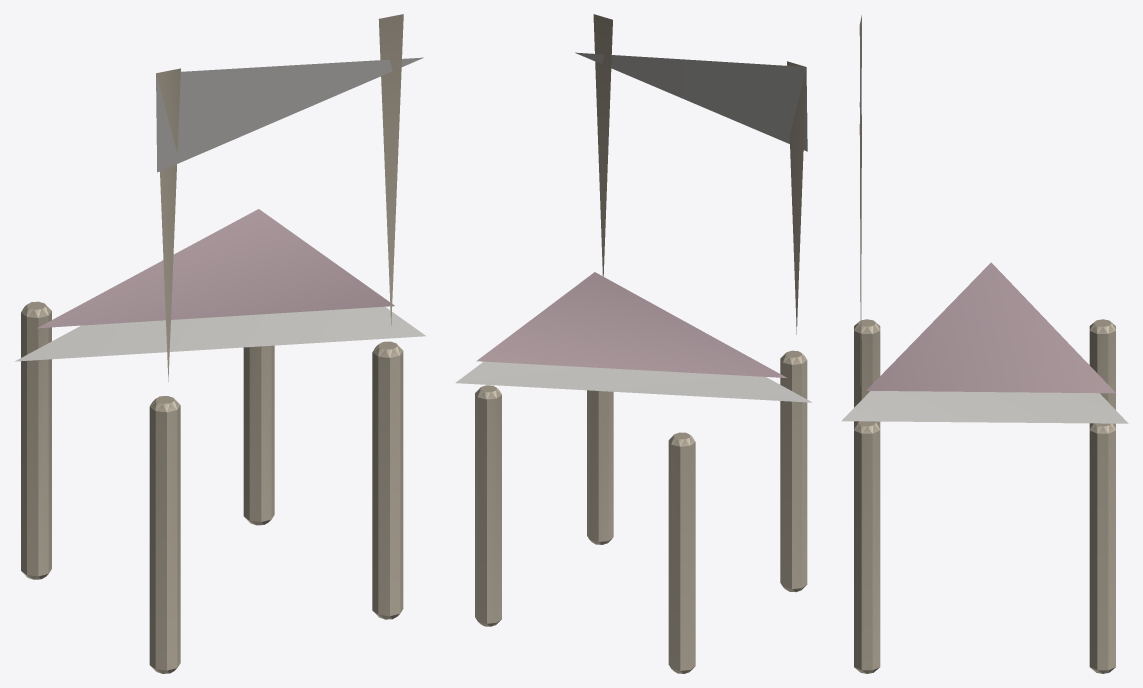
Rendered from furn_dining_chair__white_low.glb.
3 renders of one model, left to right at view 1: azimuth 30°, elevation 25°; view 2: azimuth 150°, elevation 25°; view 3: azimuth 270°, elevation 25°, orthographic. The views are drawn at different scales.
Size of the model in its own units: 0.584 by 0.9803 by 0.4637.
